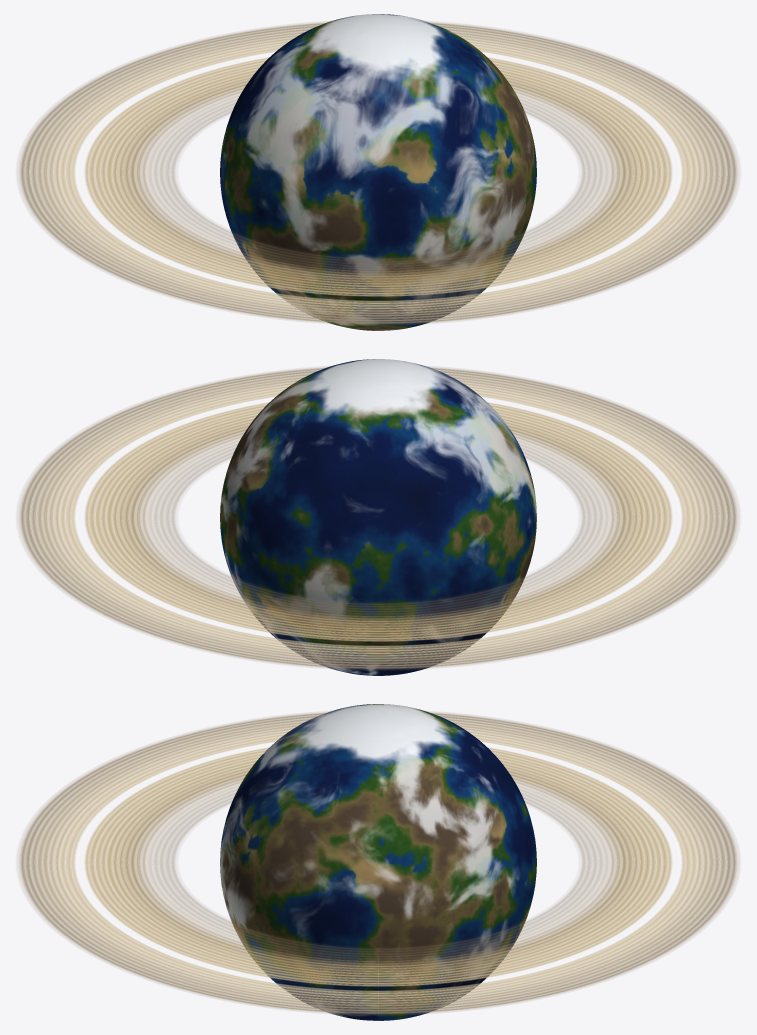
The model's file is solar.glb.
3 renders of one model, top to bottom at view 1: azimuth 30°, elevation 25°; view 2: azimuth 150°, elevation 25°; view 3: azimuth 270°, elevation 25°, orthographic.
Visible parts, largest first — view 1: SaturnRing, Earth; view 2: SaturnRing, Earth; view 3: SaturnRing, Earth.
Boxes of the visible parts, left/top/right/bottom form: SaturnRing: left=17, top=21, right=739, bottom=324; Earth: left=220, top=14, right=536, bottom=330; SaturnRing: left=17, top=366, right=739, bottom=669; Earth: left=220, top=359, right=536, bottom=675; SaturnRing: left=17, top=711, right=739, bottom=1015; Earth: left=220, top=704, right=536, bottom=1020.
Size of the model in its own units: 4.6 by 2 by 4.6.
Materials: 13 (13 with a texture image).
